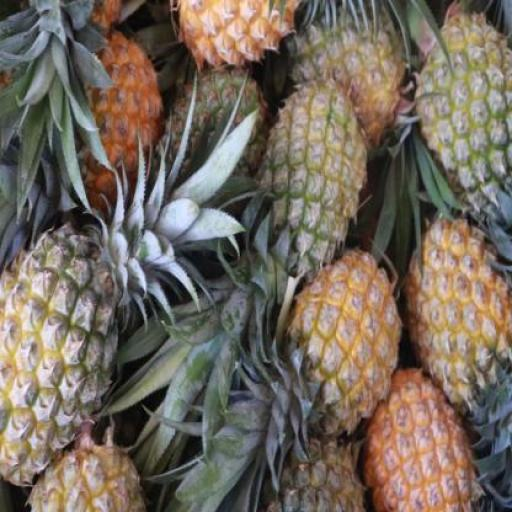------------------------------: (0, 227, 124, 483), (262, 84, 368, 280), (414, 14, 510, 212), (291, 0, 409, 144)
Pineapple - v8 v1: (402, 214, 512, 411), (292, 250, 398, 433), (362, 365, 476, 511)
